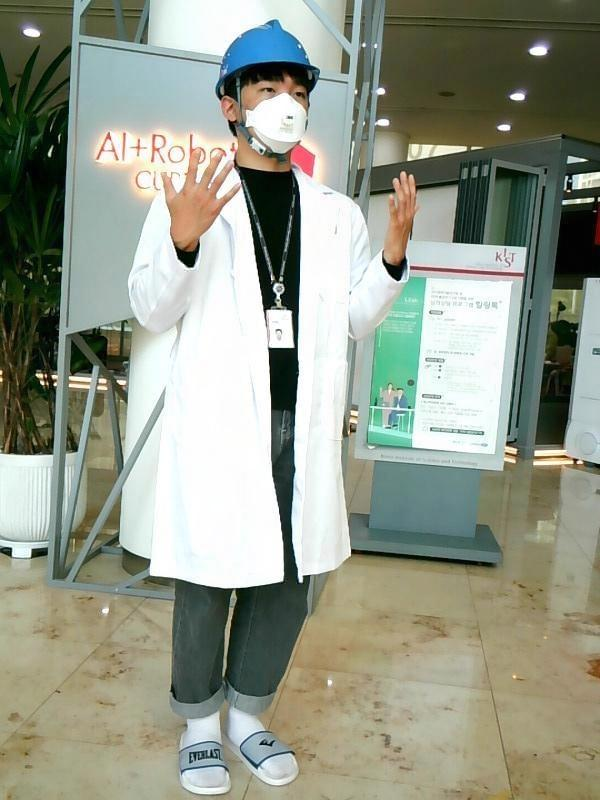Lab_coat: (126, 162, 410, 590)
